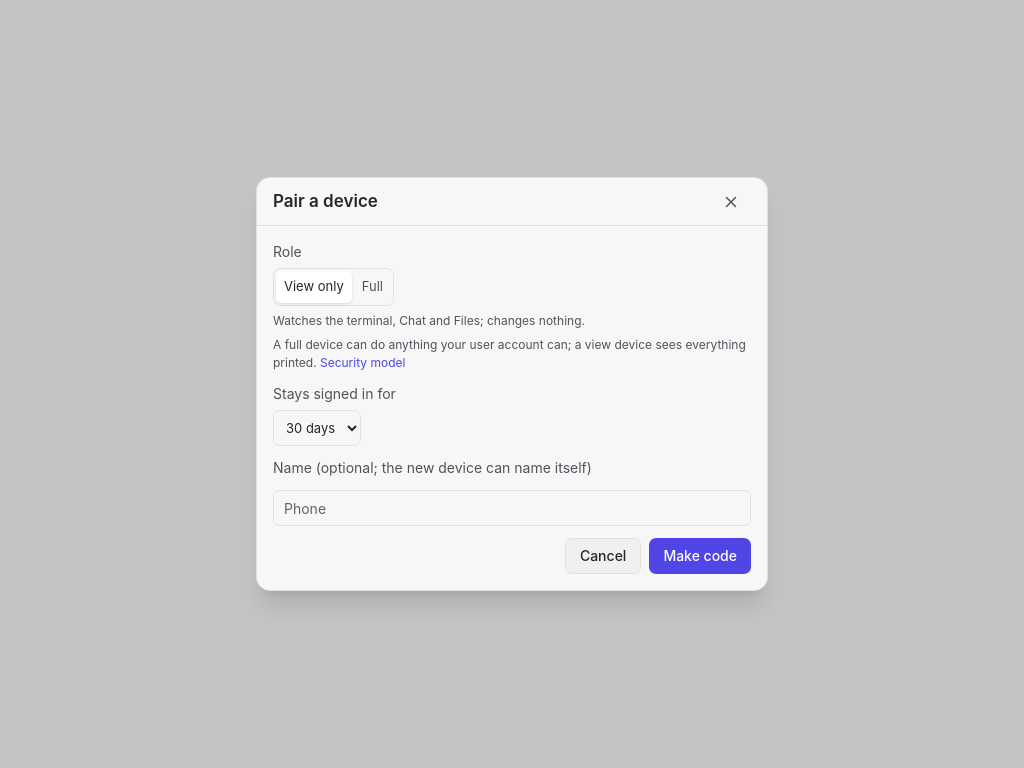
Test: PairDeviceSheet › makes a code for the chosen role and the trimmed name
Click the radio button labelled "Full": (372,287) x1=354 y1=271 x2=391 y2=303
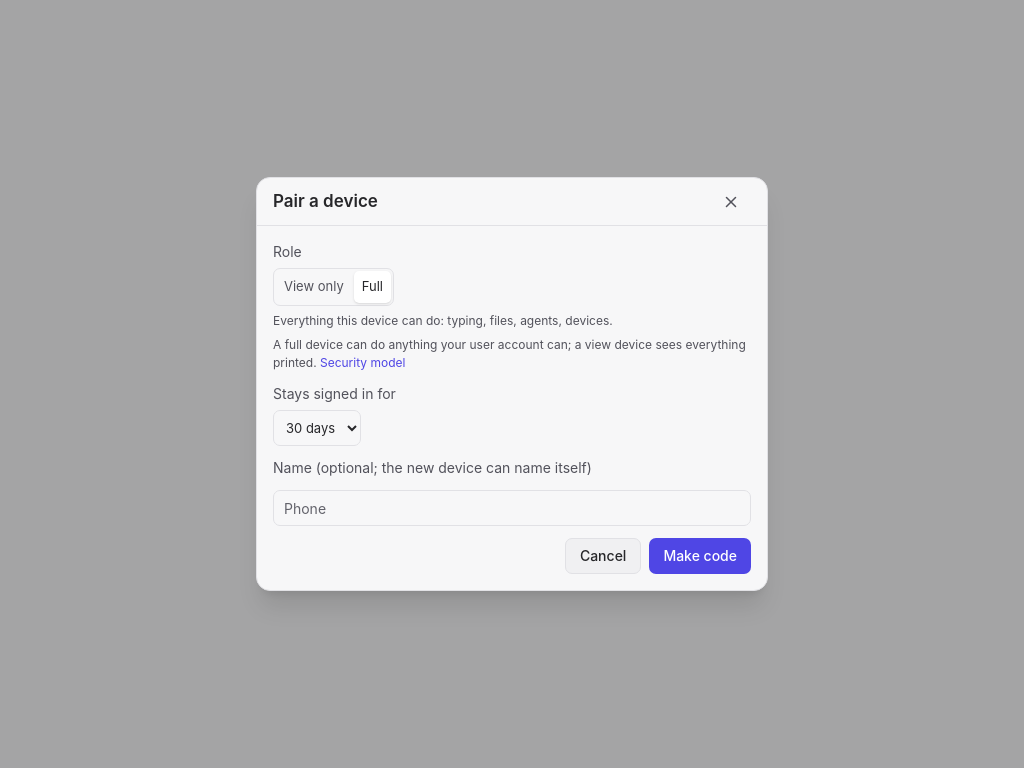
In the field: (512,508) x1=273 y1=490 x2=751 y2=526, type "  Phone  "
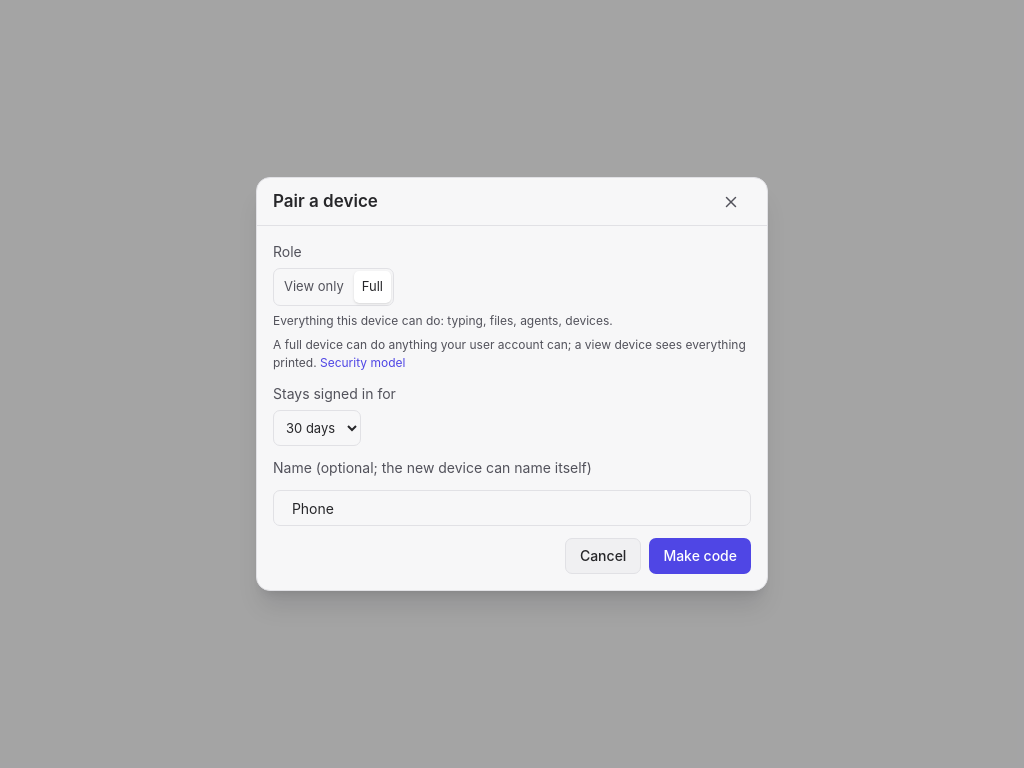
Click the button "Make code": (700,556) x1=649 y1=538 x2=751 y2=574
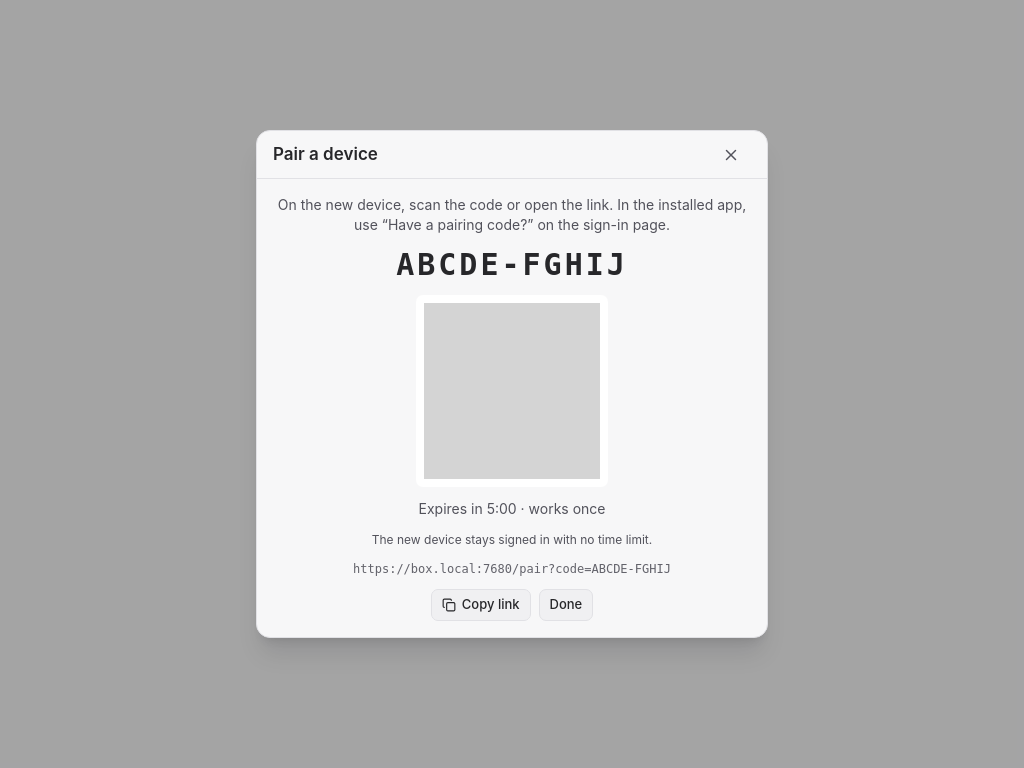
Now the text named "Pairing code" reads "ABCDE-FGHIJ", box x1=396 y1=247 x2=628 y2=282
